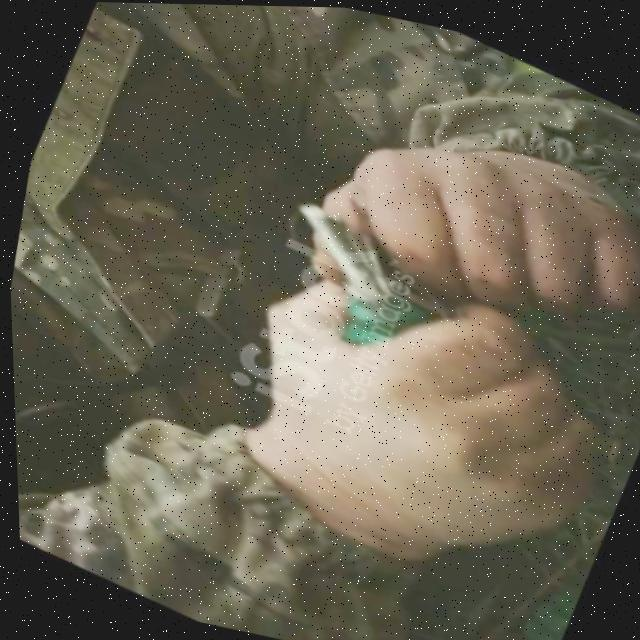grenade: (247, 183, 454, 364)
